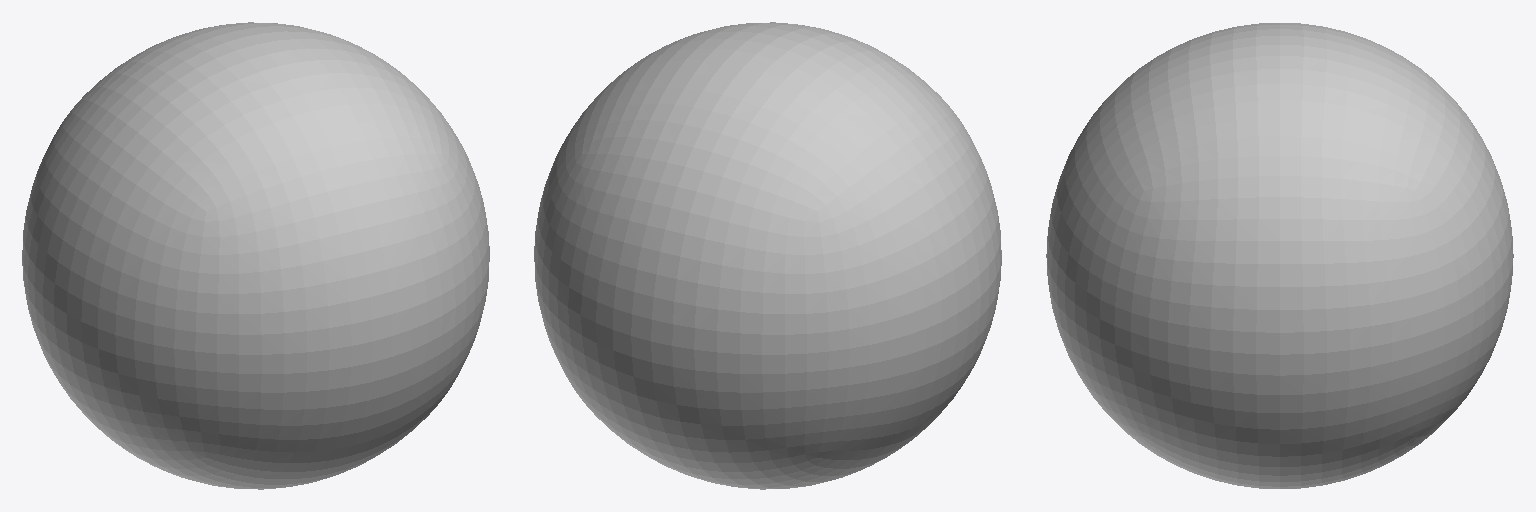
File: smallMoon.obj
3 renders of one model, left to right at view 1: azimuth 30°, elevation 25°; view 2: azimuth 150°, elevation 25°; view 3: azimuth 270°, elevation 25°, orthographic.
Parts seen in each view (by area): view 1: moon; view 2: moon; view 3: moon.
Part boxes in pixels (x1,y1,x2,y2): moon: (22,22,489,489); moon: (534,22,1001,489); moon: (1046,23,1513,488).
Size of the model in its own units: 30.58 by 30.54 by 30.58.